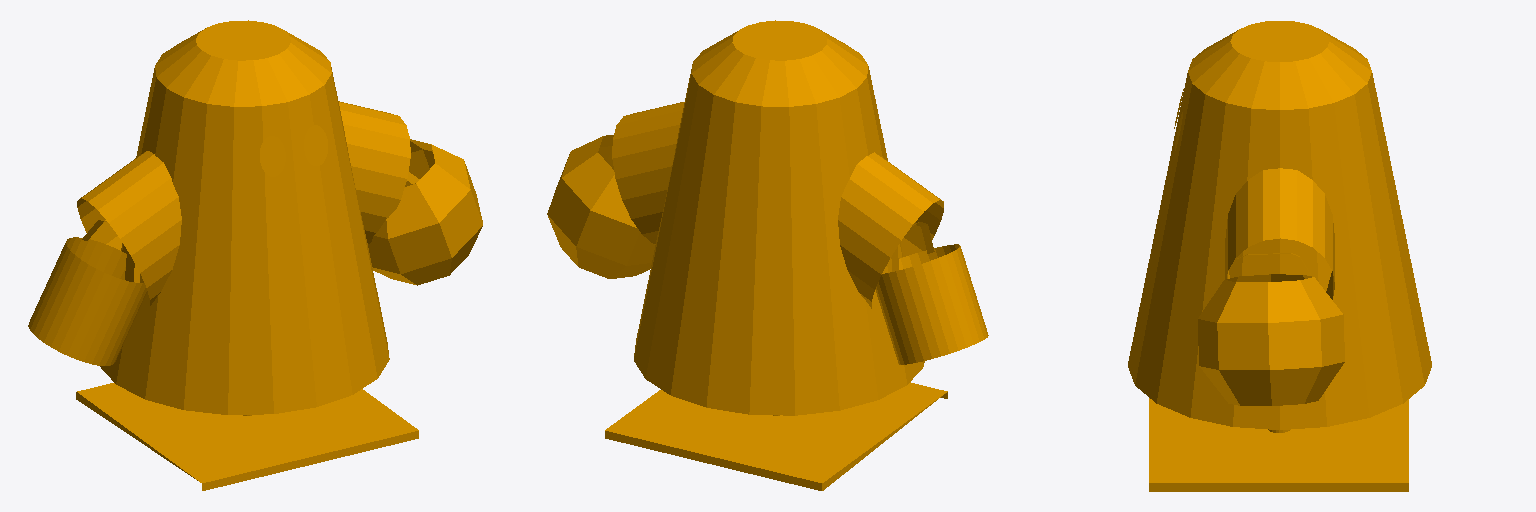
robot.urdf — mesh_object:
<?xml version="1.0" ?>
            <robot name="mesh_object">
            <link name="base">
                <visual>
                    <geometry>
                        <mesh filename="1.obj" scale="1.0 1.0 1.0"/>
                    </geometry>
                </visual>
                <collision>
                    <geometry>
                        <mesh filename="1.obj" scale="1.0 1.0 1.0"/>
                    </geometry>
                </collision>
                <inertial>
                    <origin xyz="0 0 0.04776006" rpy="0 0 0"/>
                    <mass value="0.5"/>
                    <inertia ixx="0.01" iyy="0.01" izz="0.01" ixy="0" ixz="0" iyz="0"/>
                </inertial>
            </link>
            </robot>
        

--- Facts derived from the render (not from the file) ---
The picture shows the robot from 3 angles, left to right: view 1: azimuth 30°, elevation 25°; view 2: azimuth 150°, elevation 25°; view 3: azimuth 270°, elevation 25°; orthographic projection.
Model mesh_object with 1 links and 0 joints (none), rooted at base, posed every joint at zero.
Links seen in each view (by area): view 1: base; view 2: base; view 3: base.
Boxes of the visible links, bbox=[...] form: base: bbox=[28, 20, 482, 490]; base: bbox=[547, 20, 988, 490]; base: bbox=[1128, 21, 1431, 491].
Bounding box of the posed robot: 0.1142 × 0.0672 × 0.0955 m (x, y, z).
Meshes: 1 distinct files referenced, 1 mesh visuals loaded (1 OBJ).
